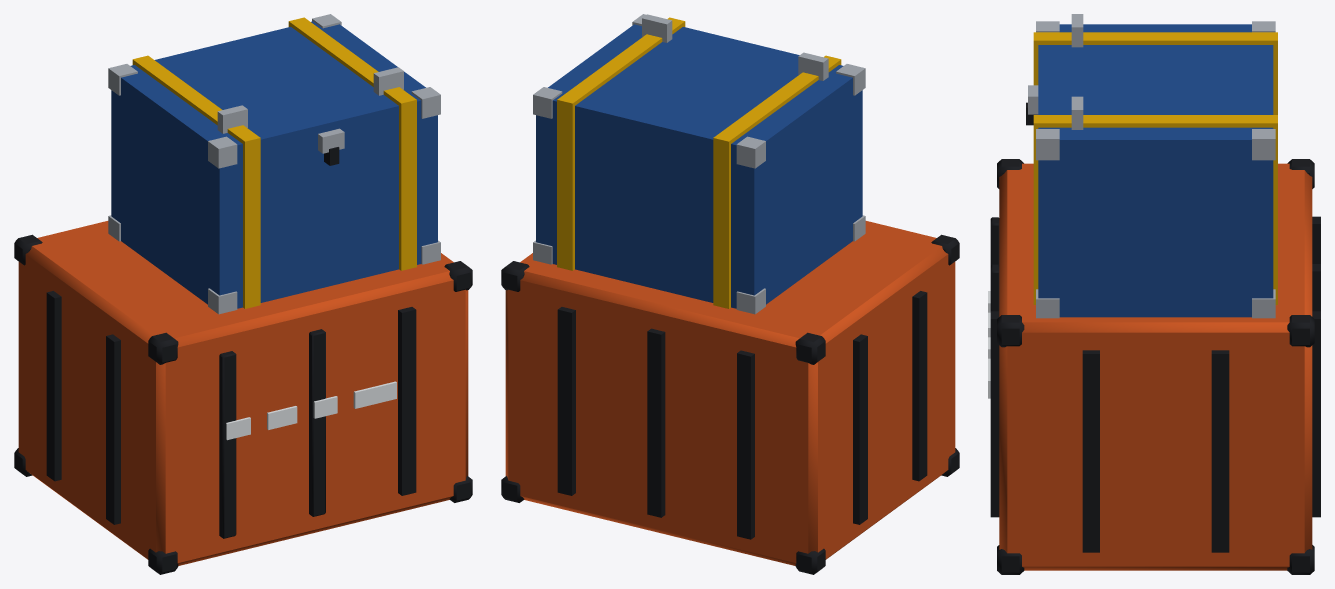
File: crate_stacked_pair.glb
3 renders of one model, left to right at view 1: azimuth 30°, elevation 25°; view 2: azimuth 150°, elevation 25°; view 3: azimuth 270°, elevation 25°, orthographic. The views are drawn at different scales.
Visible parts, largest first — view 1: crate_stacked_pair; view 2: crate_stacked_pair; view 3: crate_stacked_pair.
Part boxes in pixels (x1,y1,x2,y2): crate_stacked_pair: (14,14,472,574); crate_stacked_pair: (501,14,959,574); crate_stacked_pair: (988,14,1320,574).
Size of the model in its own units: 1.04 by 1.26 by 0.851.
